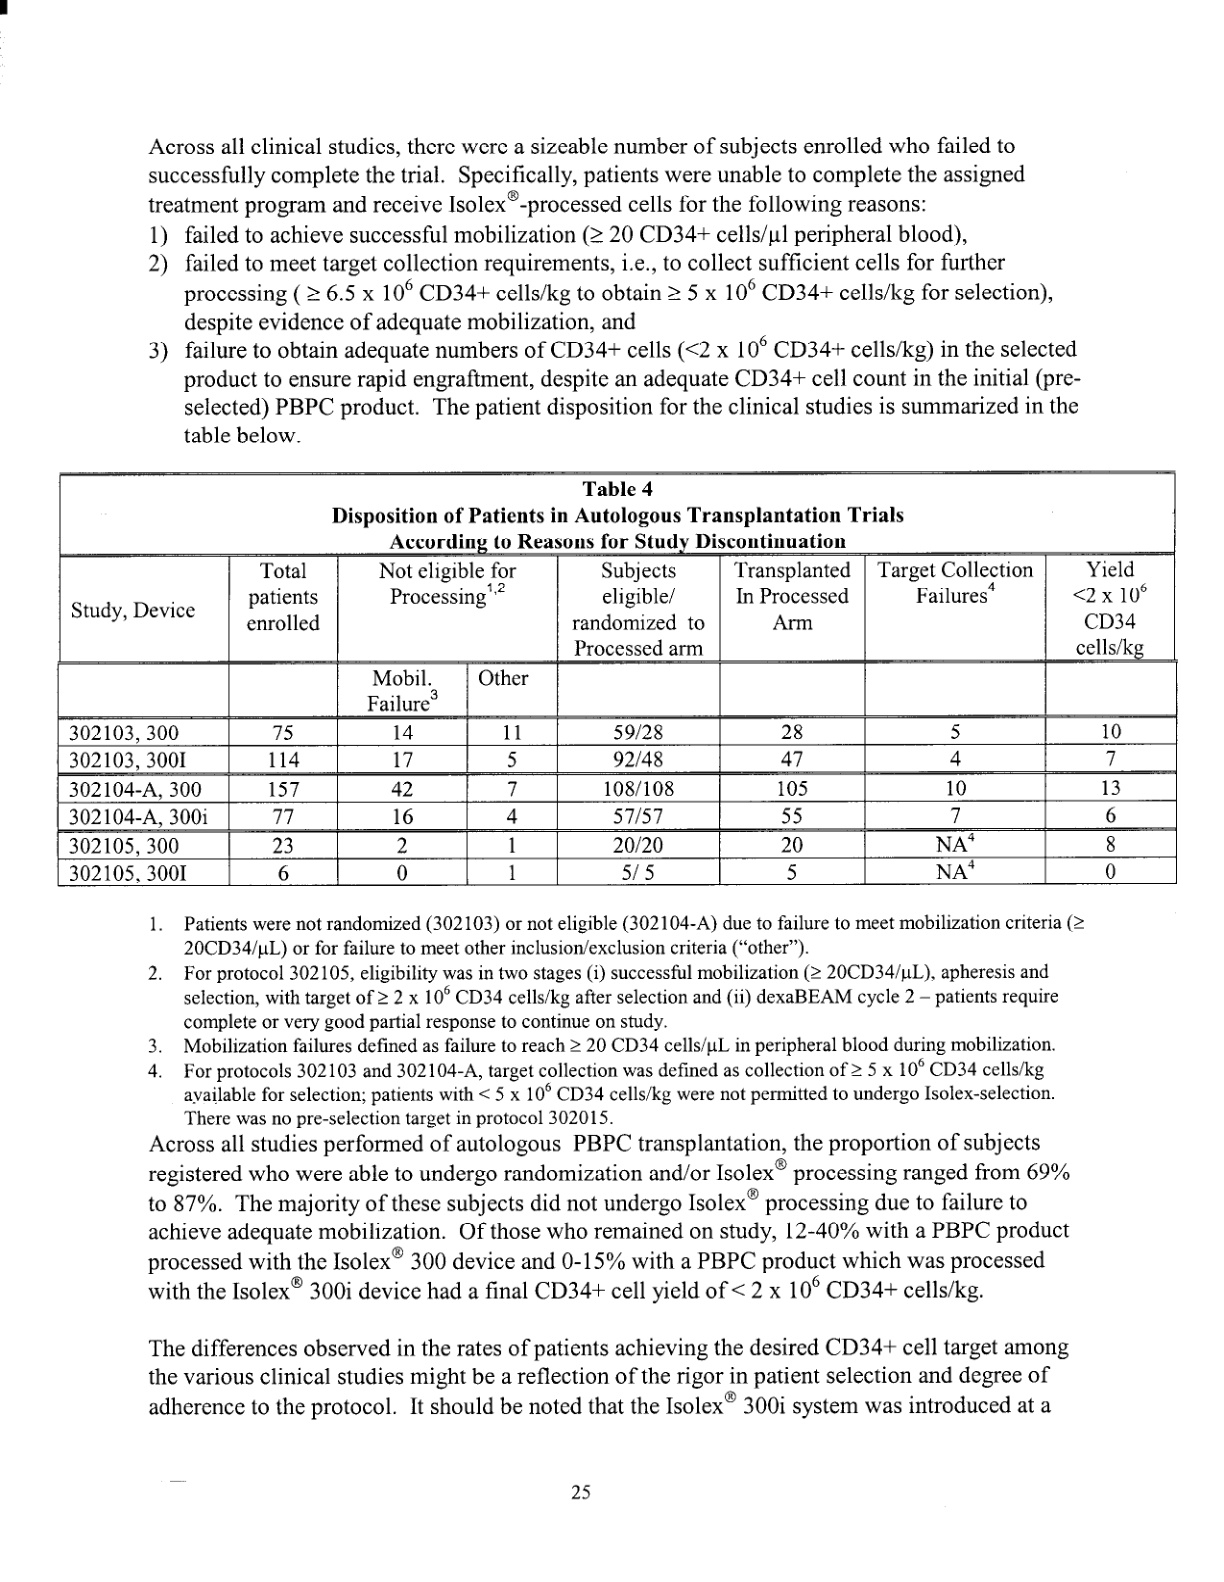merged_cells: (57, 469, 1178, 889)
